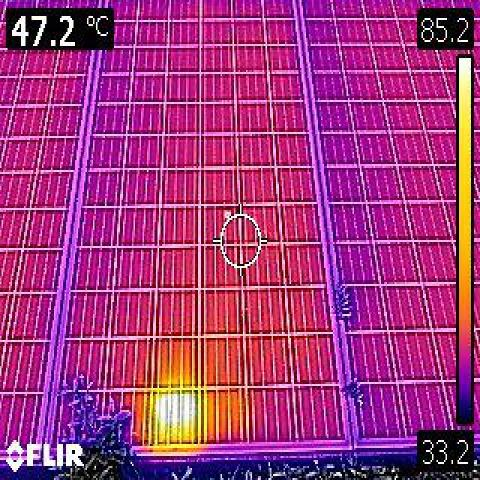fault: (151, 391, 199, 442)
